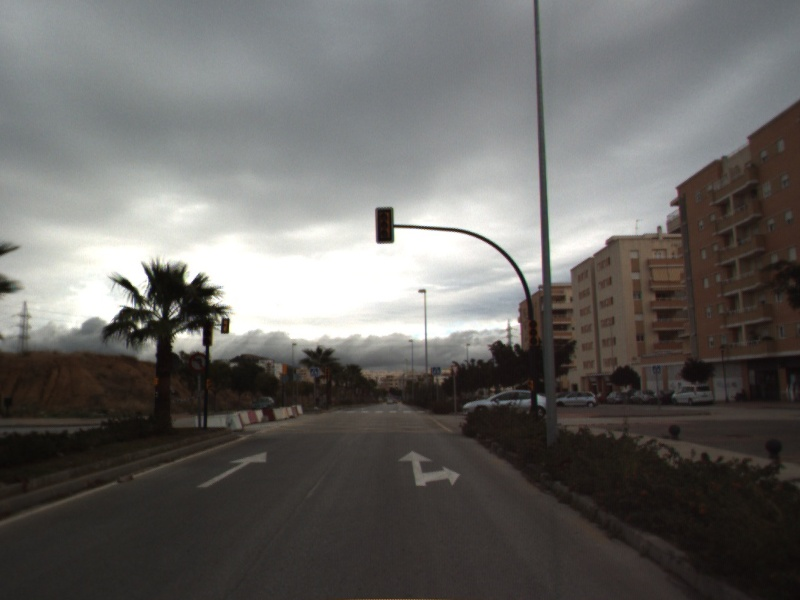STRAIGHT: (195, 450, 269, 489)
STRAIGHT_RIGHT: (396, 448, 462, 488)
